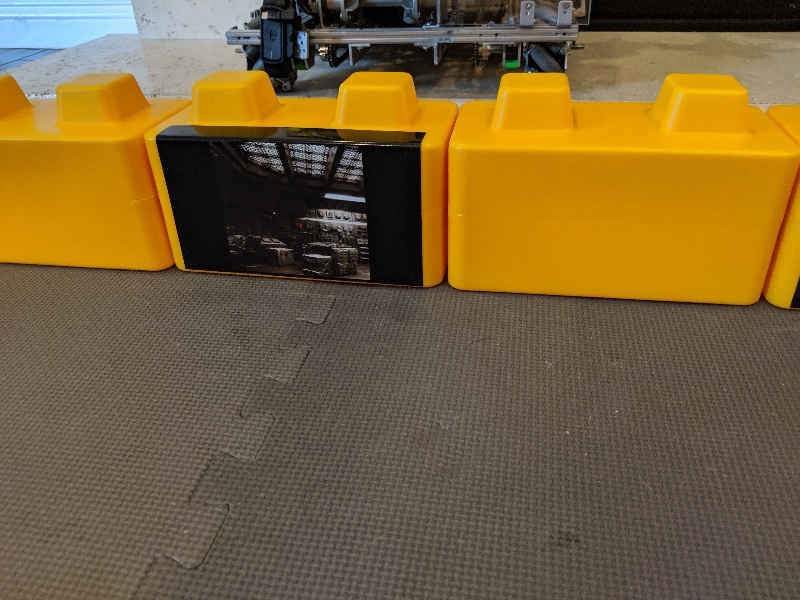Skystone: (152, 116, 436, 293)
